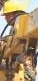gloves: (0, 70, 5, 81)
hard-hat: (0, 20, 10, 39)
